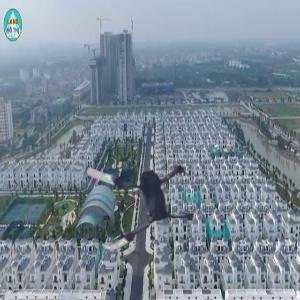drone: (76, 131, 209, 264)
